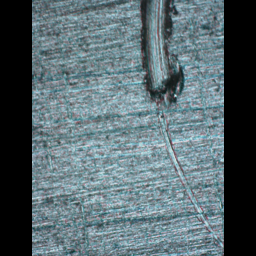d: (140, 0, 223, 254)
